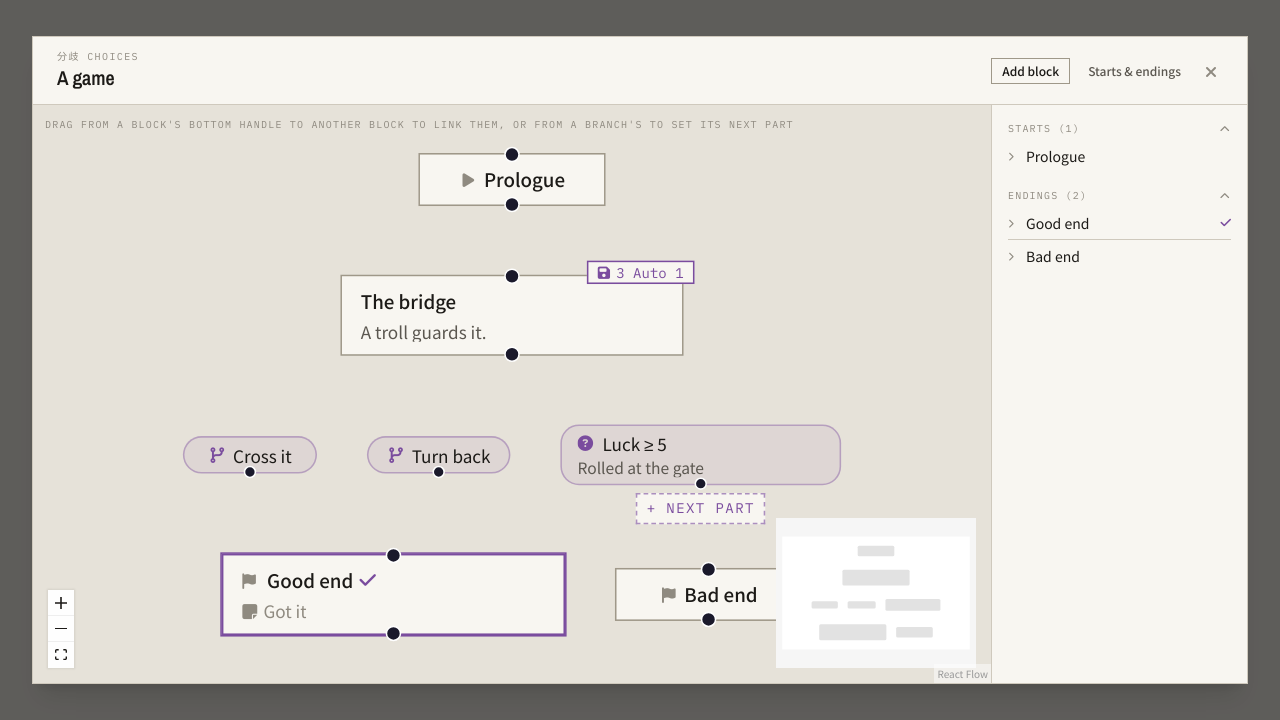
ChoiceGraphModal › opens the next-part form from a dangling pill's + next part
The width and height of the screenshot is (1280, 720).
Click the button "+ next part" at (701, 508), box [636,493,766,524]
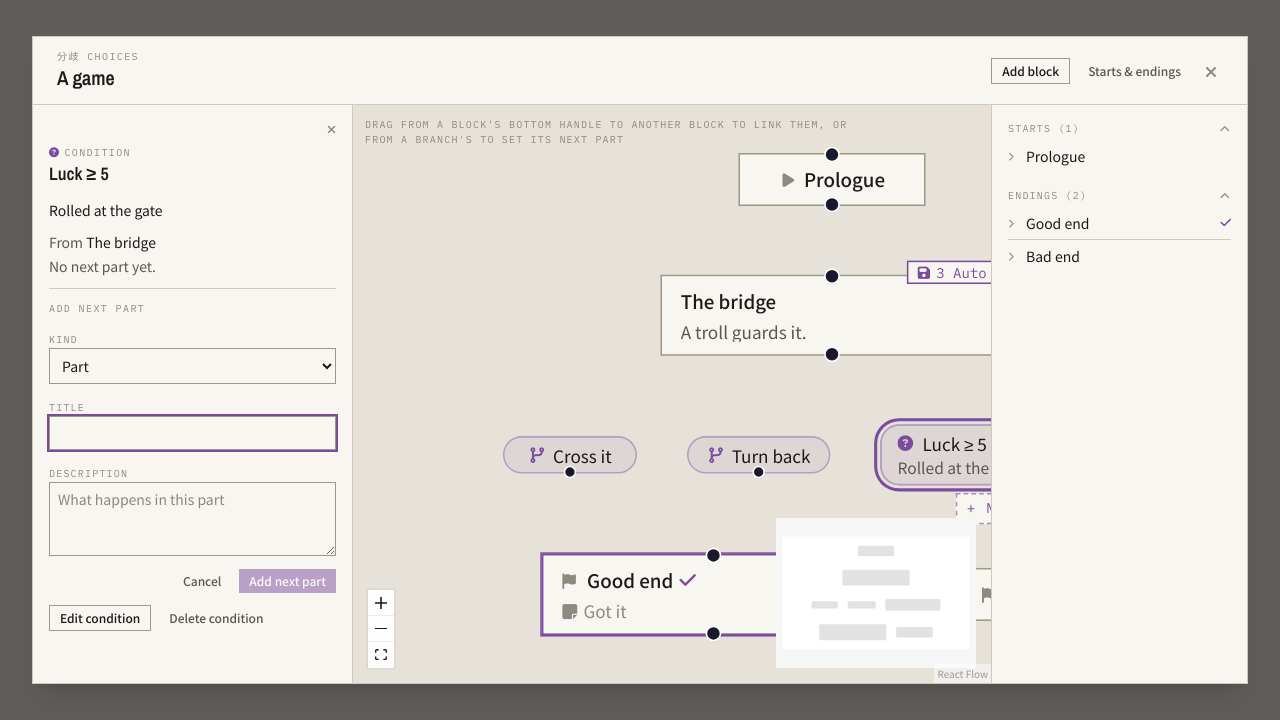
Result: the field labelled "Title" is shown at [49,416,336,450]
